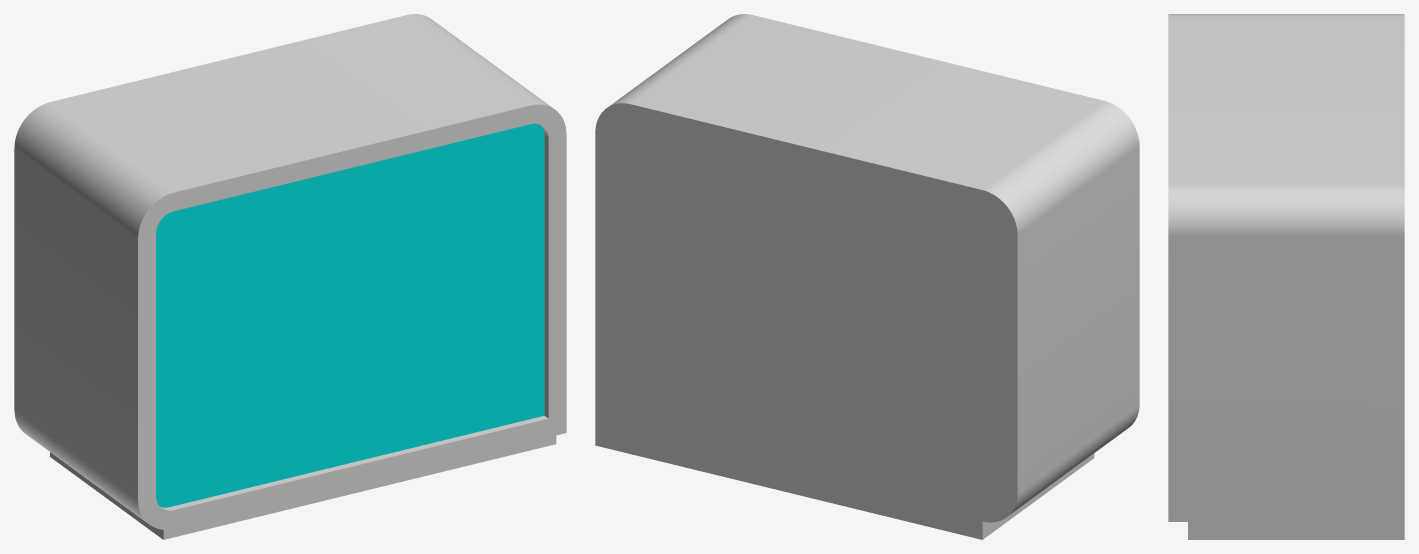
The model's file is counter-set-01-01.glb.
The picture shows the model from 3 angles, left to right: view 1: azimuth 30°, elevation 25°; view 2: azimuth 150°, elevation 25°; view 3: azimuth 270°, elevation 25°; orthographic projection. The views are drawn at different scales.
Visible parts, largest first — view 1: 3DGeom-2, 3DGeom-3; view 2: 3DGeom-2; view 3: 3DGeom-2.
Part boxes in pixels (x1,y1,x2,y2): 3DGeom-2: (14, 14, 566, 539); 3DGeom-3: (156, 123, 544, 507); 3DGeom-2: (595, 14, 1139, 539); 3DGeom-2: (1168, 14, 1404, 539).
Bounding box in the file's own units: 1.2 × 0.95 × 0.6.
